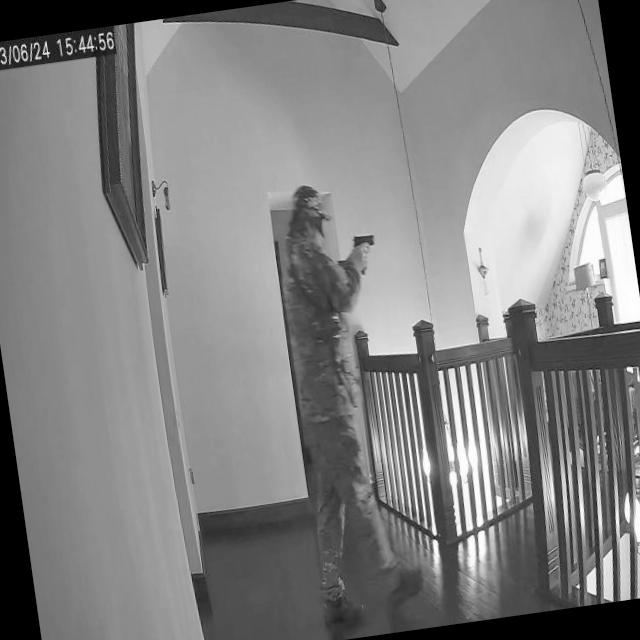gun: (350, 230, 380, 272)
person with a gun: (264, 172, 432, 633)
